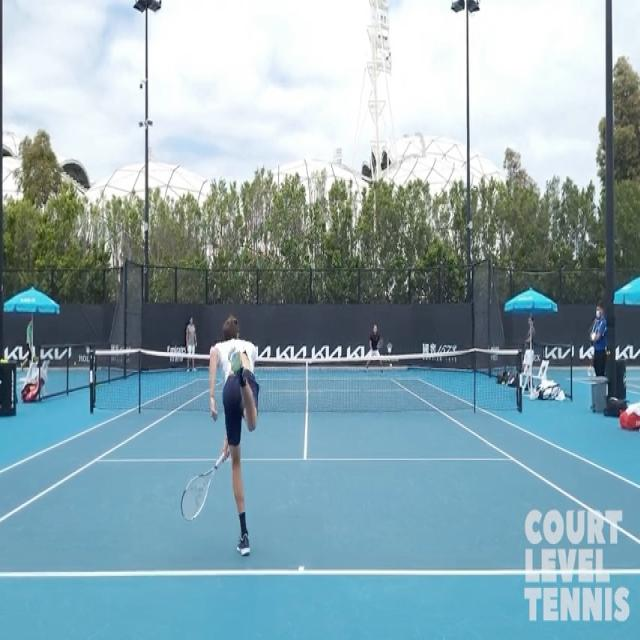serve_followthrough: (177, 251, 281, 561)
